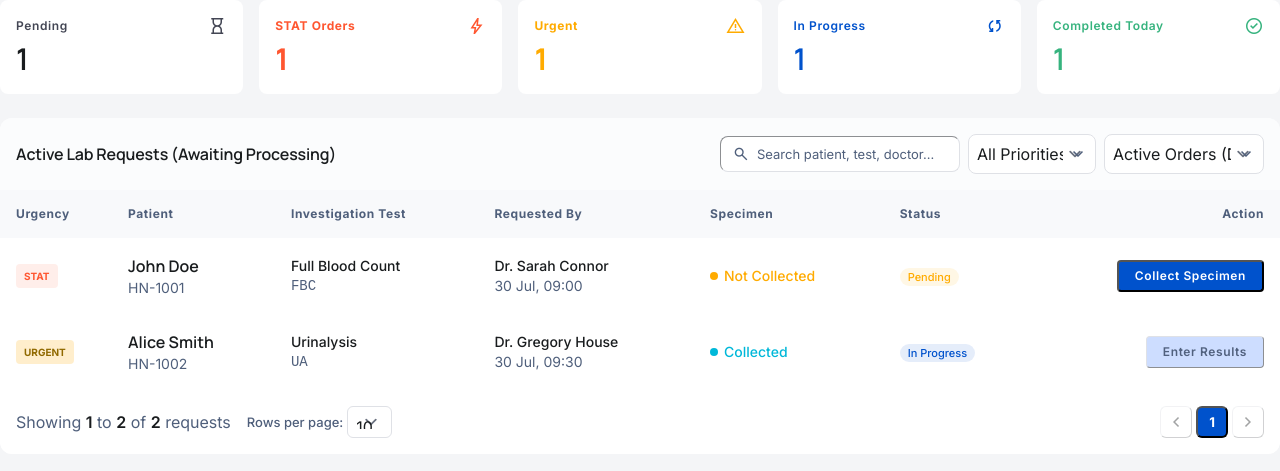
it: LabRequestsPage Component › filters requests dynamically as user types in live search bar
This screenshot has width=1280, height=471.
Check: the text "John Doe" is shown, box [128,255,199,277]
In the field with placeholder "Search patient, test, doctor...": (840, 154) [720,136,960,172], type "Urinalysis"
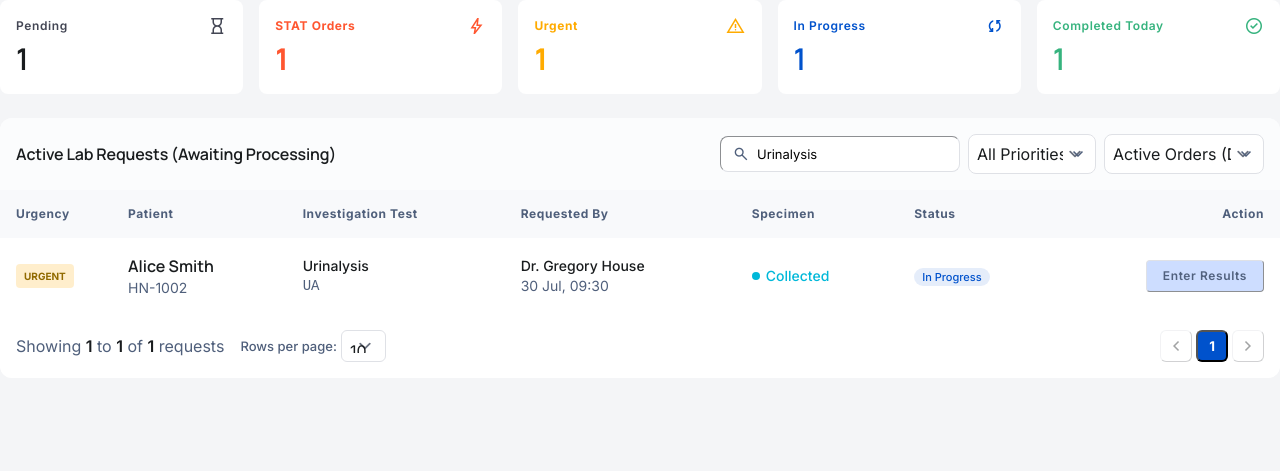
Check: the text "Alice Smith" is shown, box [128,255,214,277]
Check: the text "John Doe" is gone
